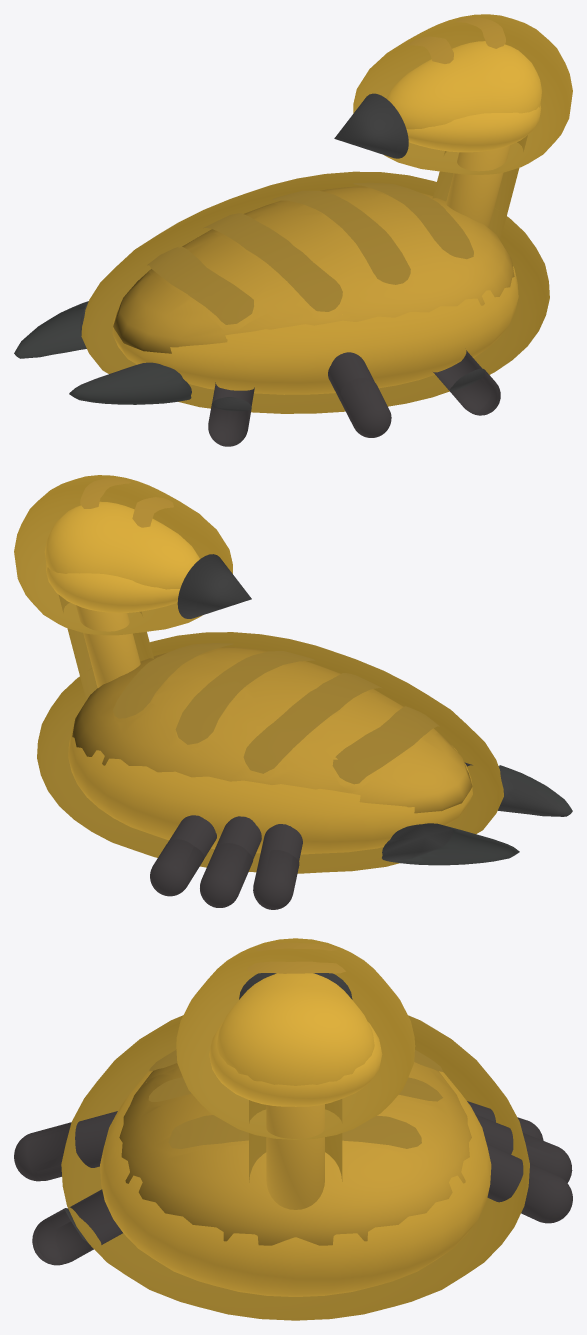
The model's file is scorpion.glb.
The picture shows the model from 3 angles, top to bottom: view 1: azimuth 30°, elevation 25°; view 2: azimuth 150°, elevation 25°; view 3: azimuth 270°, elevation 25°; orthographic projection. The views are drawn at different scales.
Visible parts, largest first — view 1: Sphere, Sphere.009, Sphere.011, Sphere.010, Cylinder, Sphere.002, Sphere.021, Cone, Sphere.019, Sphere.015, Sphere.020, Sphere.012 (+5 smaller); view 2: Sphere, Sphere.009, Sphere.011, Sphere.010, Cylinder, Sphere.002, Cone, Sphere.024, Sphere.015, Sphere.025, Sphere.022, Sphere.023 (+6 smaller); view 3: Sphere, Sphere.009, Sphere.011, Cylinder, Sphere.010, Sphere.002, Sphere.004, Sphere.025, Sphere.019, Sphere.008, Sphere.012, Sphere.006 (+4 smaller).
Part boxes in pixels (<box>): Sphere: <box>81,171,549,413</box>; Sphere.009: <box>113,186,514,353</box>; Sphere.011: <box>353,14,572,174</box>; Sphere.010: <box>147,182,473,324</box>; Cylinder: <box>432,135,527,239</box>; Sphere.002: <box>406,104,541,152</box>; Sphere.021: <box>69,363,191,404</box>; Cone: <box>334,93,408,158</box>; Sphere.019: <box>339,378,391,437</box>; Sphere.015: <box>15,302,86,357</box>; Sphere.020: <box>208,397,251,446</box>; Sphere.012: <box>409,16,505,63</box>; Sphere: <box>37,632,503,873</box>; Sphere.009: <box>72,647,472,813</box>; Sphere.011: <box>14,475,232,635</box>; Sphere.010: <box>113,643,439,784</box>; Cylinder: <box>58,595,153,700</box>; Sphere.002: <box>46,565,179,612</box>; Cone: <box>177,554,251,618</box>; Sphere.024: <box>200,843,253,907</box>; Sphere.015: <box>382,826,517,864</box>; Sphere.025: <box>150,839,203,896</box>; Sphere.022: <box>382,823,519,865</box>; Sphere.023: <box>255,850,299,909</box>; Sphere: <box>61,1015,529,1320</box>; Sphere.009: <box>119,1062,471,1245</box>; Sphere.011: <box>176,938,415,1139</box>; Cylinder: <box>249,1099,342,1209</box>; Sphere.010: <box>148,1050,443,1148</box>; Sphere.002: <box>209,1022,382,1106</box>; Sphere.004: <box>36,1189,122,1264</box>; Sphere.025: <box>521,1163,572,1223</box>; Sphere.019: <box>14,1122,71,1181</box>; Sphere.008: <box>36,1111,117,1180</box>; Sphere.012: <box>247,942,345,973</box>; Sphere.006: <box>486,1143,523,1202</box>.
Size of the model in its own units: 3.27 by 1.92 by 2.49.
